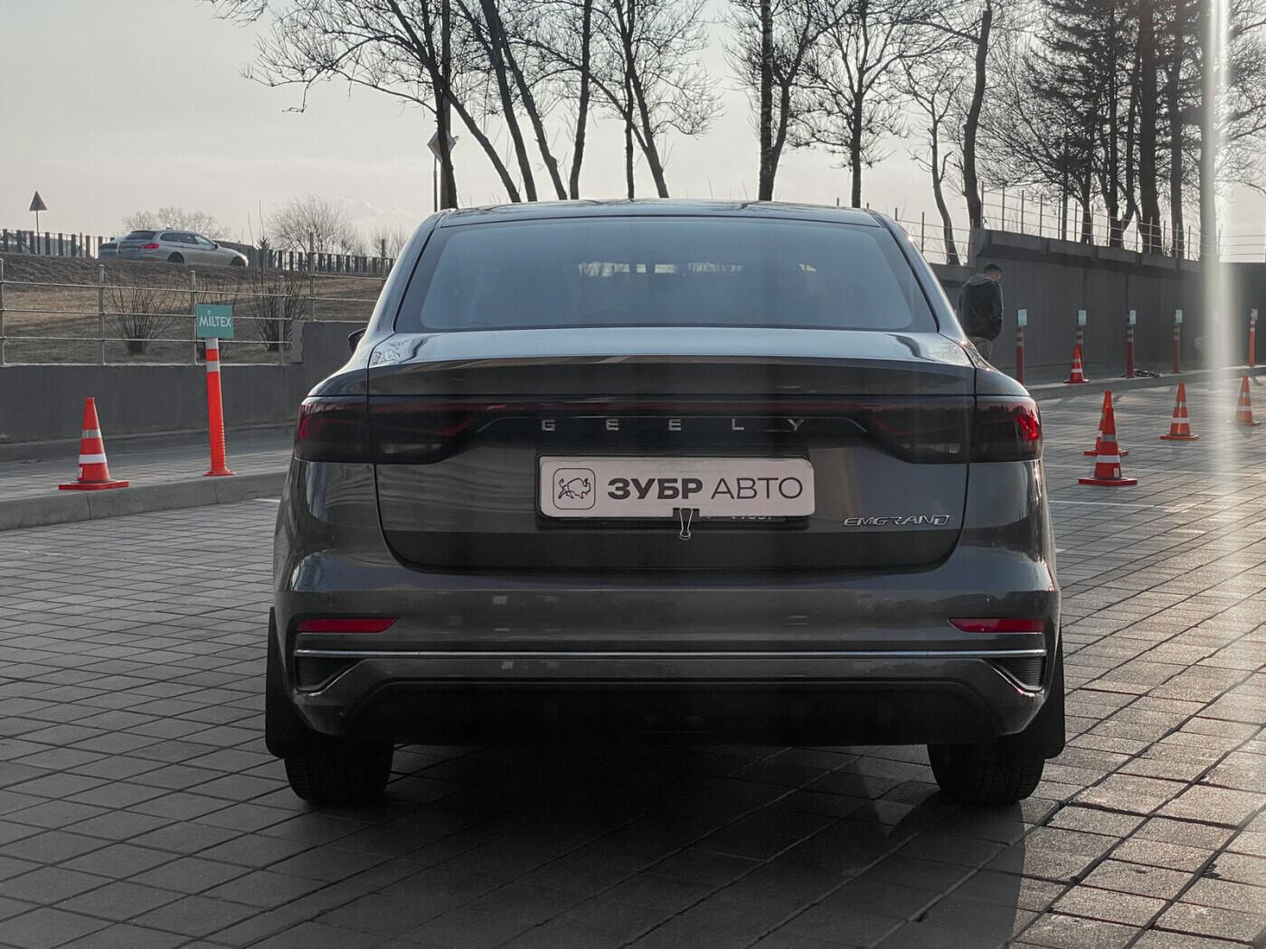Emgrand_2021: (249, 192, 1075, 821)
